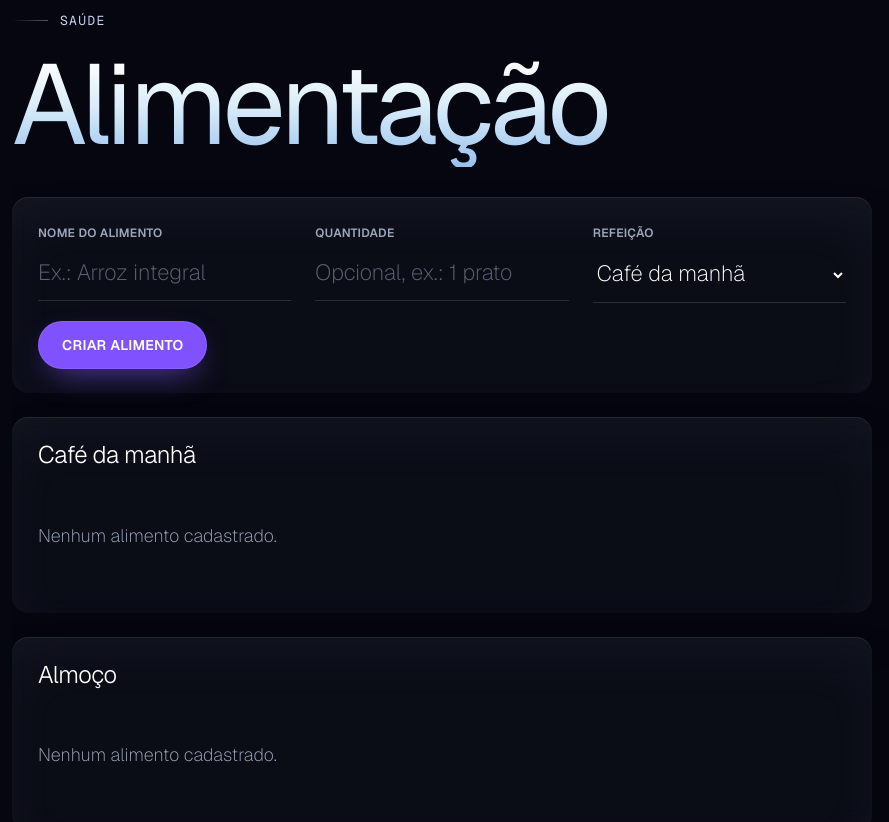
Test: S2 — criar alimento: validação, erro e bloqueio › creates a food in the explicitly chosen meal with trimmed values, writing the confirmed response before owner-only invalidation
This screenshot has width=889, height=822.
Expected: the form named "Novo alimento" is shown, [12,197,872,393]
Expected: the field labelled "Quantidade" is shown, [315,248,569,301]
In the field labelled "Nome do alimento": [165, 274] box [38,248,291,301], type "  Arroz integral  "
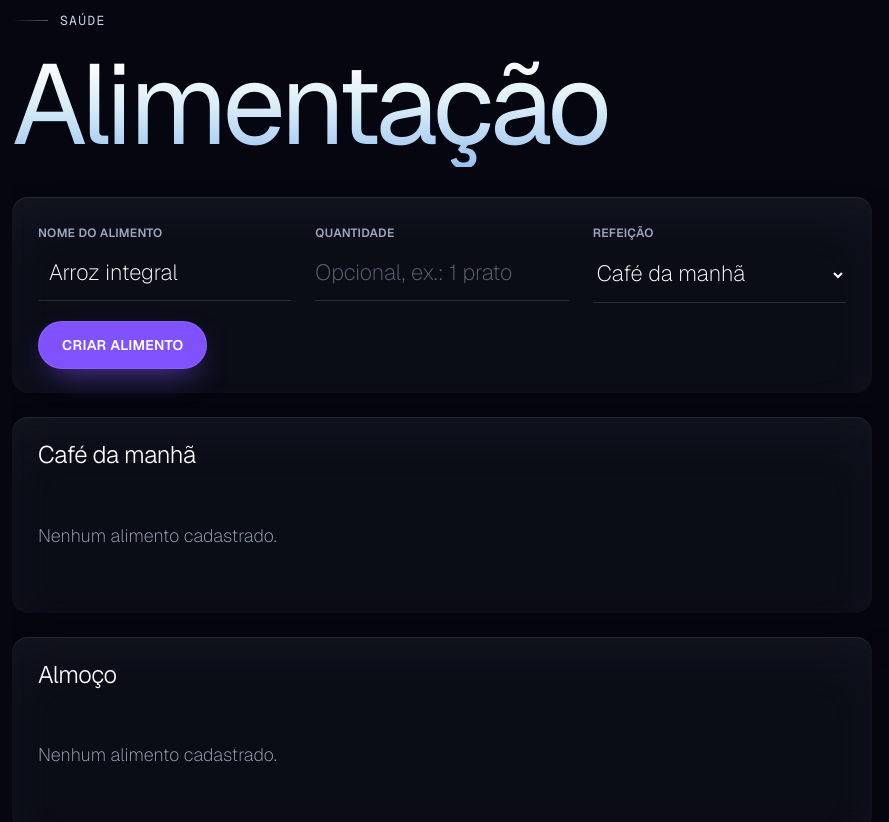
In the field labelled "Quantidade": [442, 274] box [315,248,569,301], type "  1 prato  "
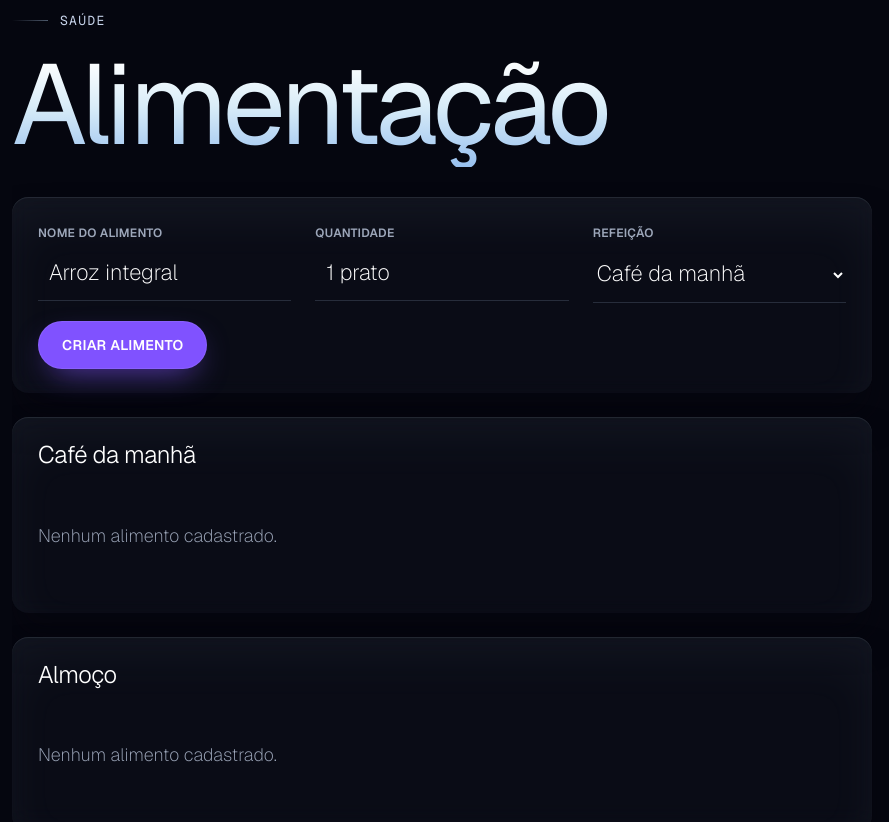
Select "Almoço" in the dropdown labelled "Refeição": [719, 275] box [593,248,846,303]
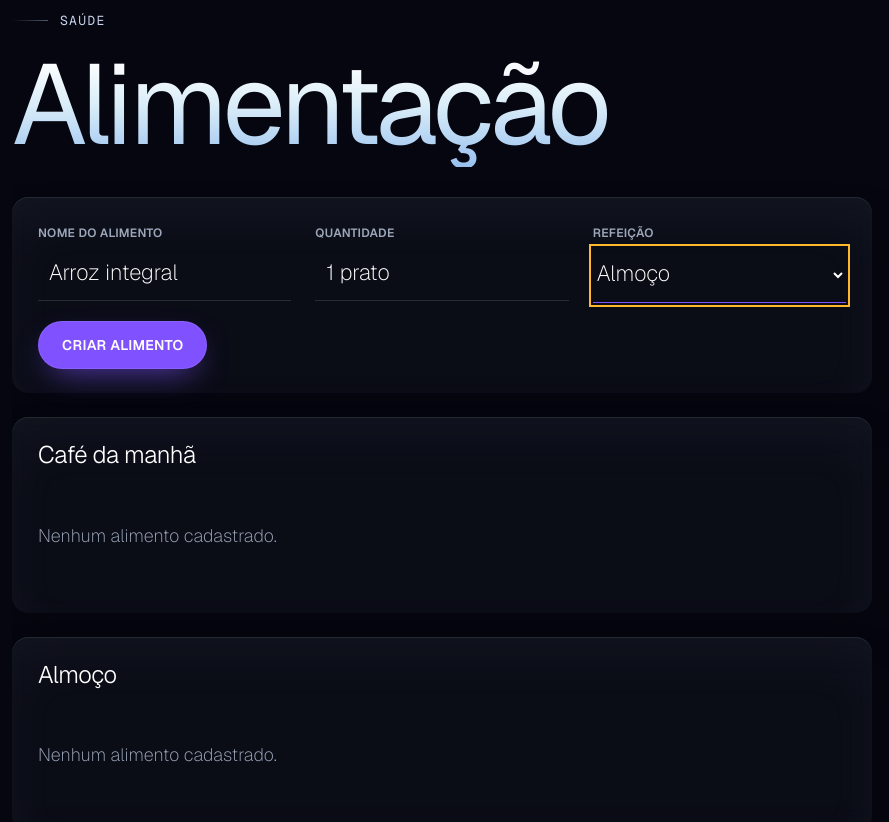
Submit the form named "Novo alimento", box [12,197,872,393]
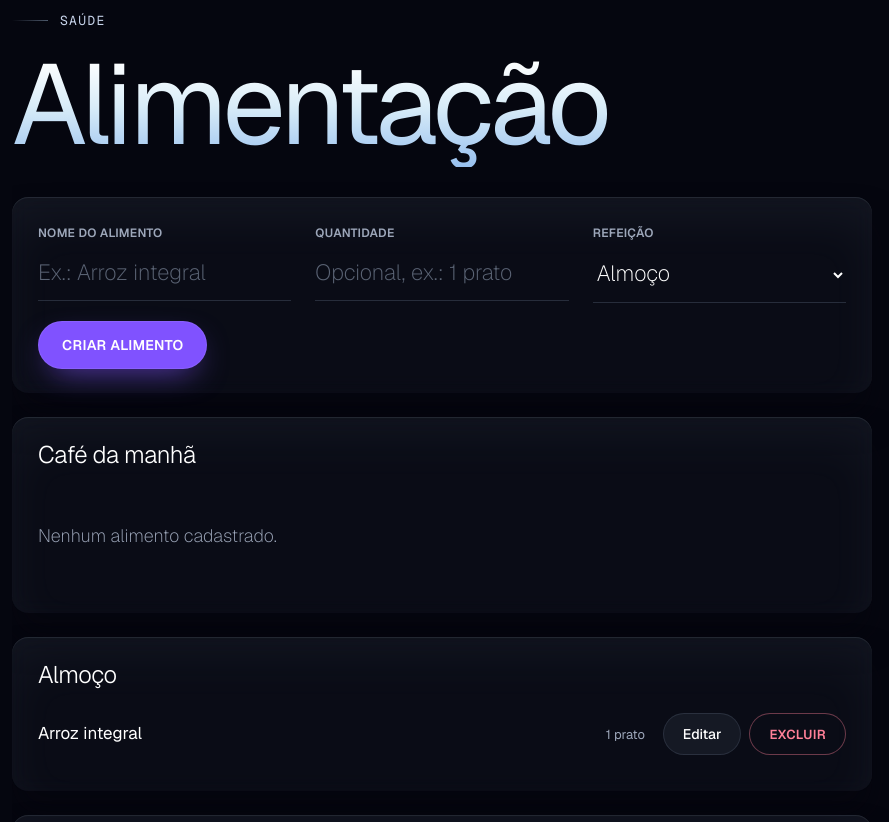
Expected: the text "Arroz integral" is shown, [38,722,142,744]
Expected: the field labelled "Nome do alimento" is empty, [38,248,291,301]
Expected: the field labelled "Quantidade" is empty, [315,248,569,301]
